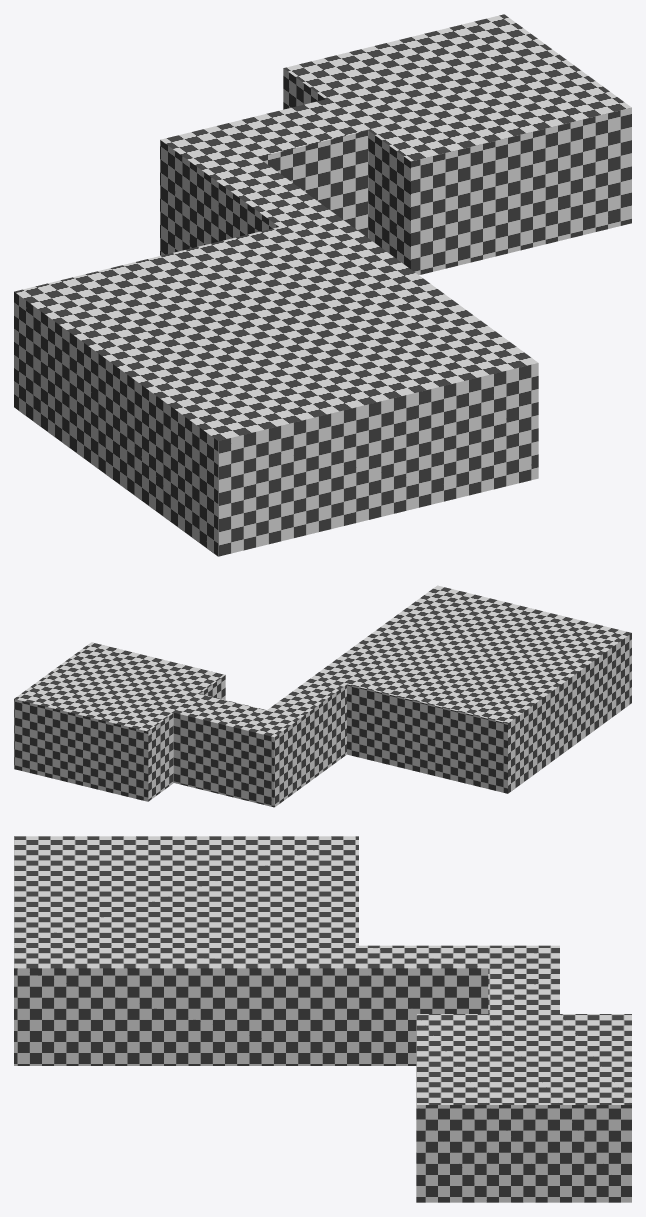
File: Level1.glb
The picture shows the model from 3 angles, top to bottom: view 1: azimuth 30°, elevation 25°; view 2: azimuth 150°, elevation 25°; view 3: azimuth 270°, elevation 25°; orthographic projection. The views are drawn at different scales.
Parts seen in each view (by area): view 1: Cube; view 2: Cube; view 3: Cube.
Boxes of the visible parts, bbox=[...] form: Cube: bbox=[14, 14, 631, 556]; Cube: bbox=[14, 585, 631, 807]; Cube: bbox=[14, 836, 631, 1202].
Size of the model in its own units: 59 by 10 by 57.33.
Materials: 1 (1 with a texture image).
